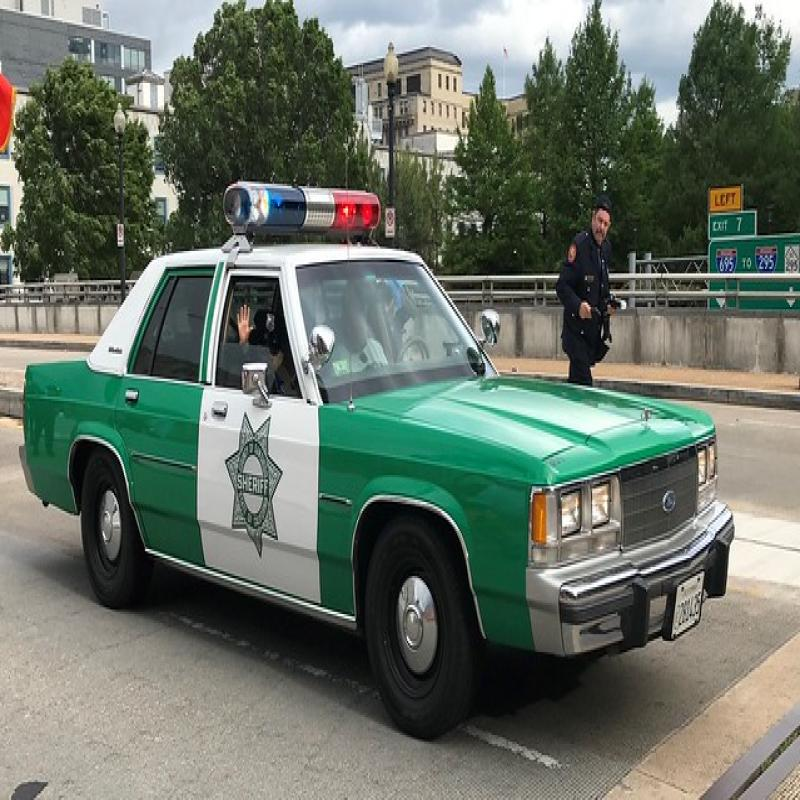AmbulanceSiren: (224, 166, 380, 244)
